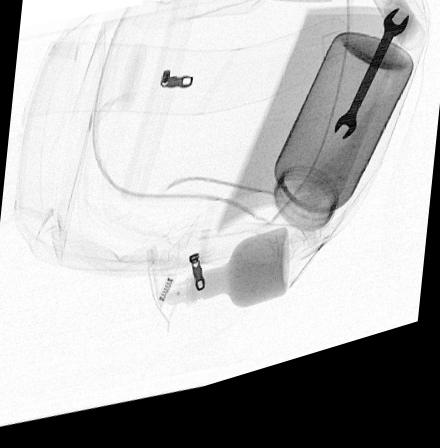Wrench: (332, 28, 410, 161)
